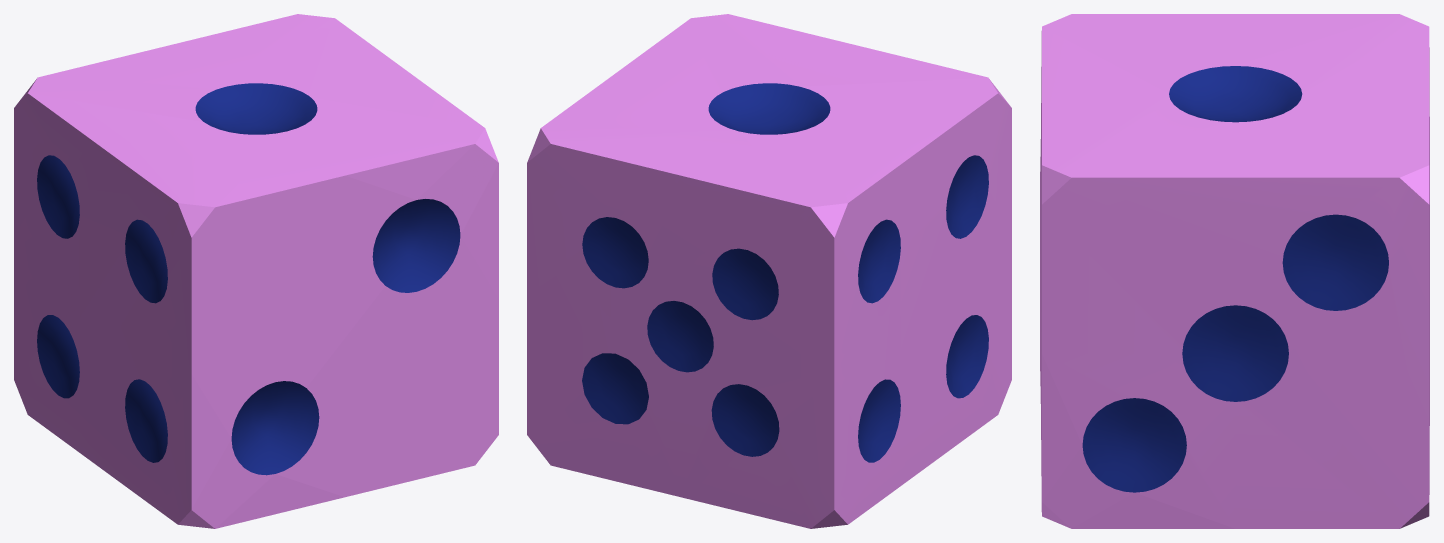
The model's file is Dice_Pink.fbx.
3 renders of one model, left to right at view 1: azimuth 30°, elevation 25°; view 2: azimuth 150°, elevation 25°; view 3: azimuth 270°, elevation 25°, orthographic. The views are drawn at different scales.
Visible parts, largest first — view 1: Dice_Pink; view 2: Dice_Pink; view 3: Dice_Pink.
Part boxes in pixels (left/top/right/bottom): Dice_Pink: left=14, top=14, right=498, bottom=528; Dice_Pink: left=527, top=14, right=1011, bottom=528; Dice_Pink: left=1040, top=14, right=1429, bottom=528.
Size of the model in its own units: 110 by 111 by 111.
